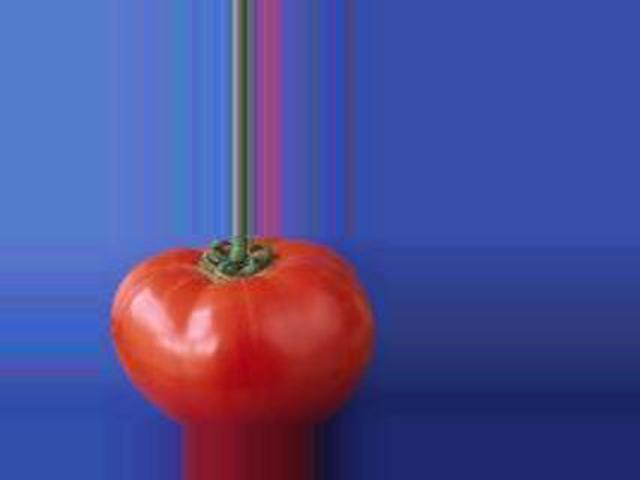tomato: (111, 234, 375, 428)
